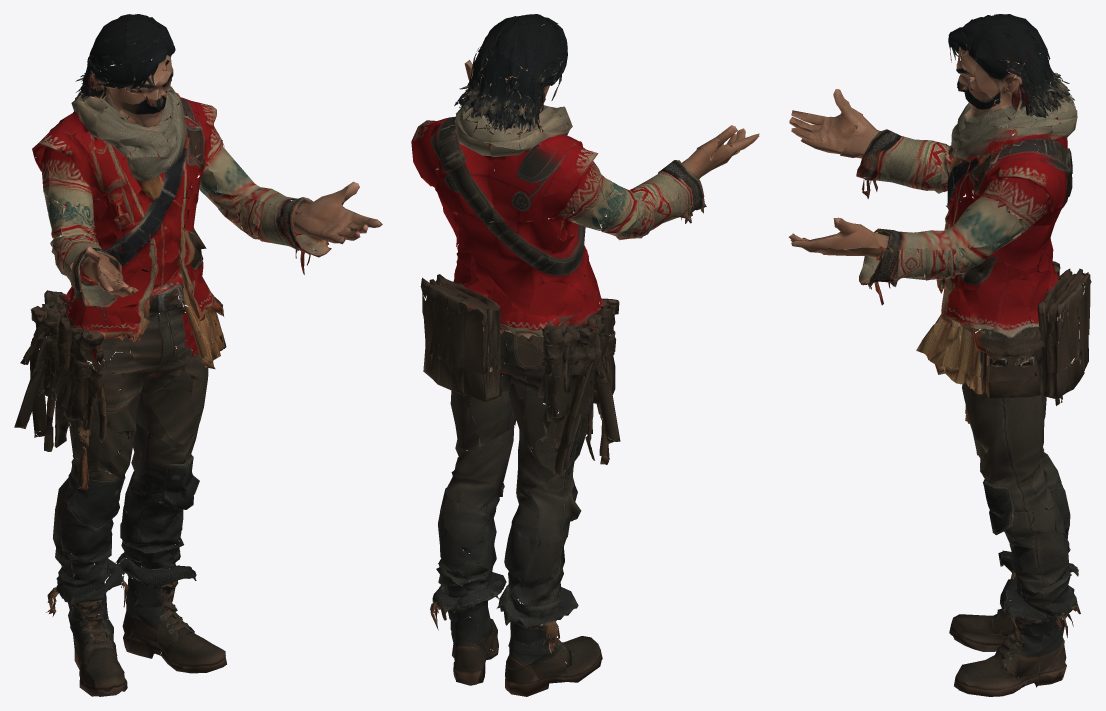
The model's file is bandido.glb.
3 renders of one model, left to right at view 1: azimuth 30°, elevation 25°; view 2: azimuth 150°, elevation 25°; view 3: azimuth 270°, elevation 25°, orthographic.
Parts seen in each view (by area): view 1: Cuerpo; view 2: Cuerpo; view 3: Cuerpo.
Boxes of the visible parts, x1,y1,x2,y2 form: Cuerpo: (14,14,382,696); Cuerpo: (411,14,759,696); Cuerpo: (788,14,1091,696).
Size of the model in its own units: 0.8388 by 1.9 by 0.8077.
Materials: 1 (1 with a texture image).
